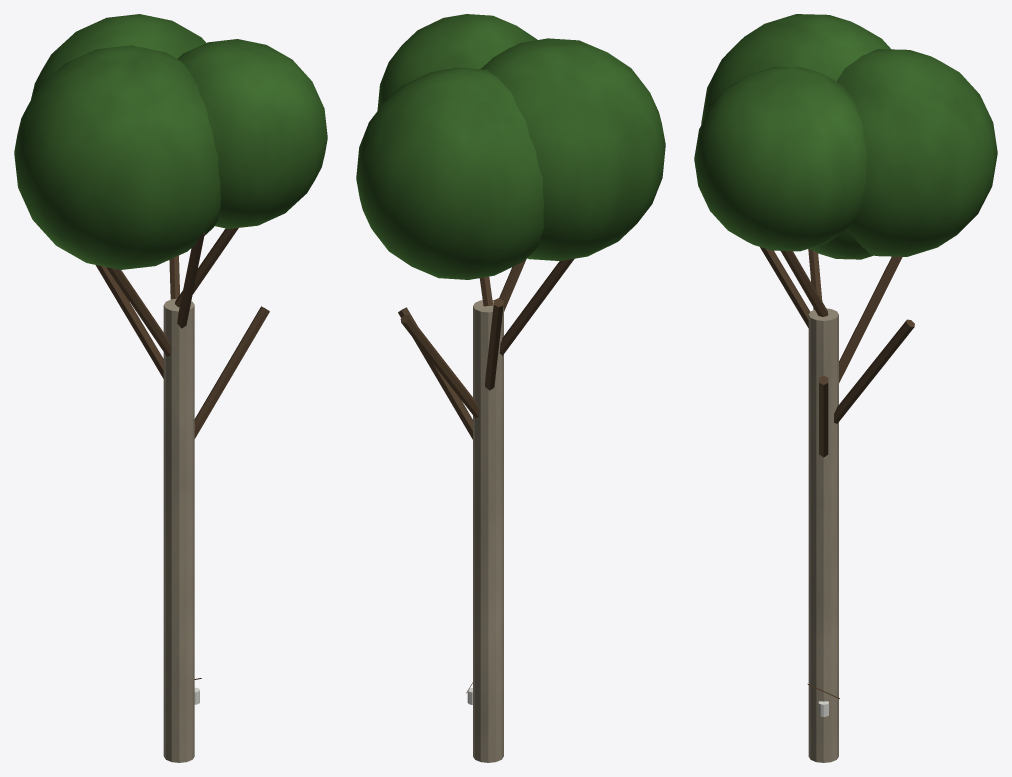
Rendered from pv_kaucukovnik.glb.
3 renders of one model, left to right at view 1: azimuth 30°, elevation 25°; view 2: azimuth 150°, elevation 25°; view 3: azimuth 270°, elevation 25°, orthographic. The views are drawn at different scales.
Parts seen in each view (by area): view 1: dum; view 2: dum; view 3: dum.
Boxes of the visible parts, bbox=[...] form: dum: bbox=[14, 14, 327, 762]; dum: bbox=[356, 14, 665, 762]; dum: bbox=[694, 14, 997, 762].
Bounding box in the file's own units: 0.3993 × 1 × 0.3904.
Materials: 1 (1 with a texture image).
